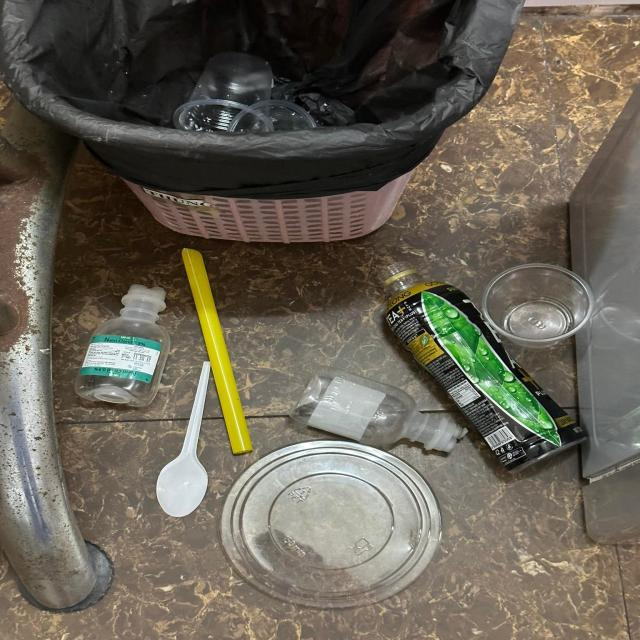bottle: (376, 260, 589, 475), (298, 366, 468, 454), (72, 283, 167, 407)
drinking straw: (180, 246, 255, 454)
lid: (222, 441, 442, 606)
plastic glass: (482, 261, 594, 350), (175, 54, 274, 134), (231, 96, 316, 132)
plastic utensil: (155, 362, 212, 518)
